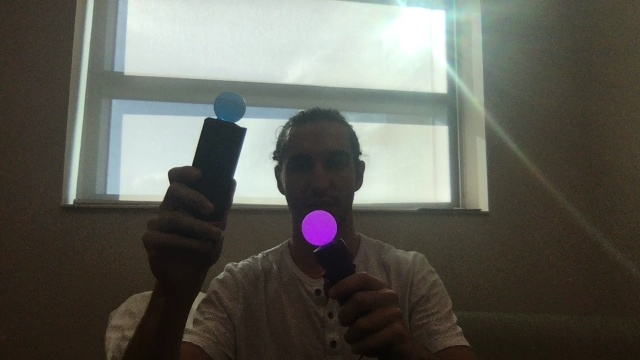wand: (302, 211, 337, 246), (214, 91, 246, 123)
